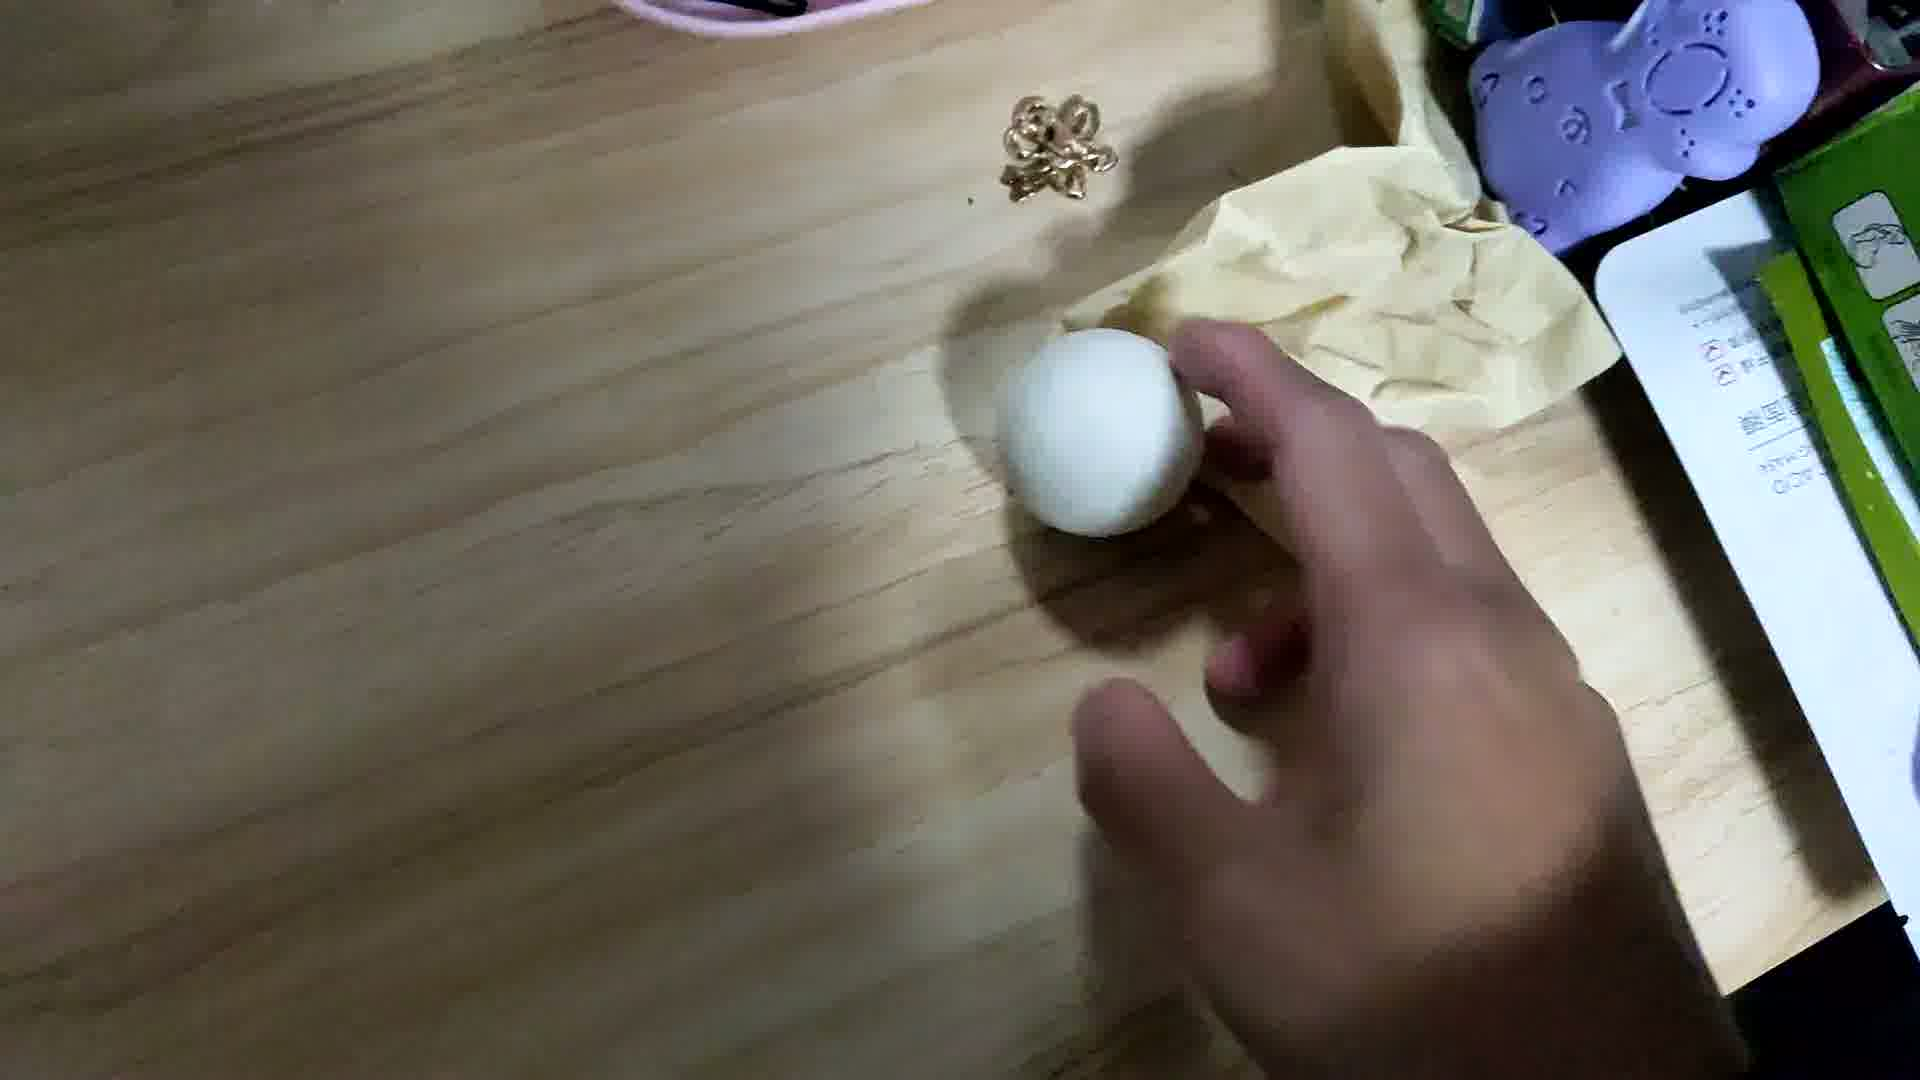Ball: (992, 332, 1196, 541)
